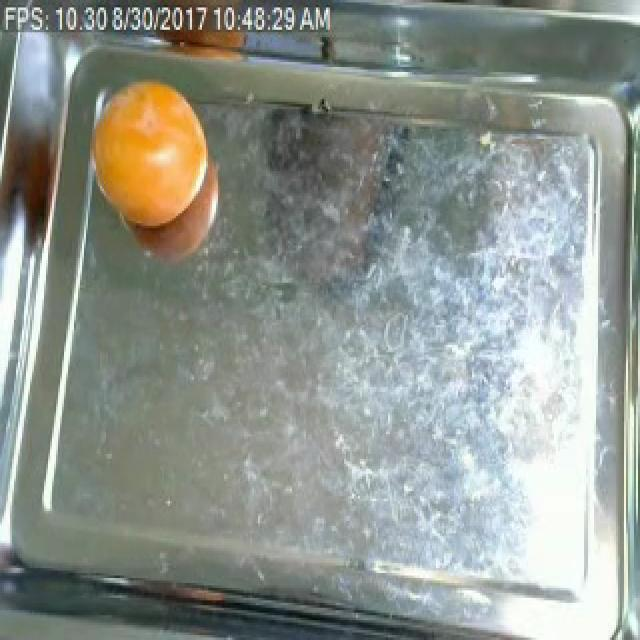Fruit: (80, 70, 216, 233)
